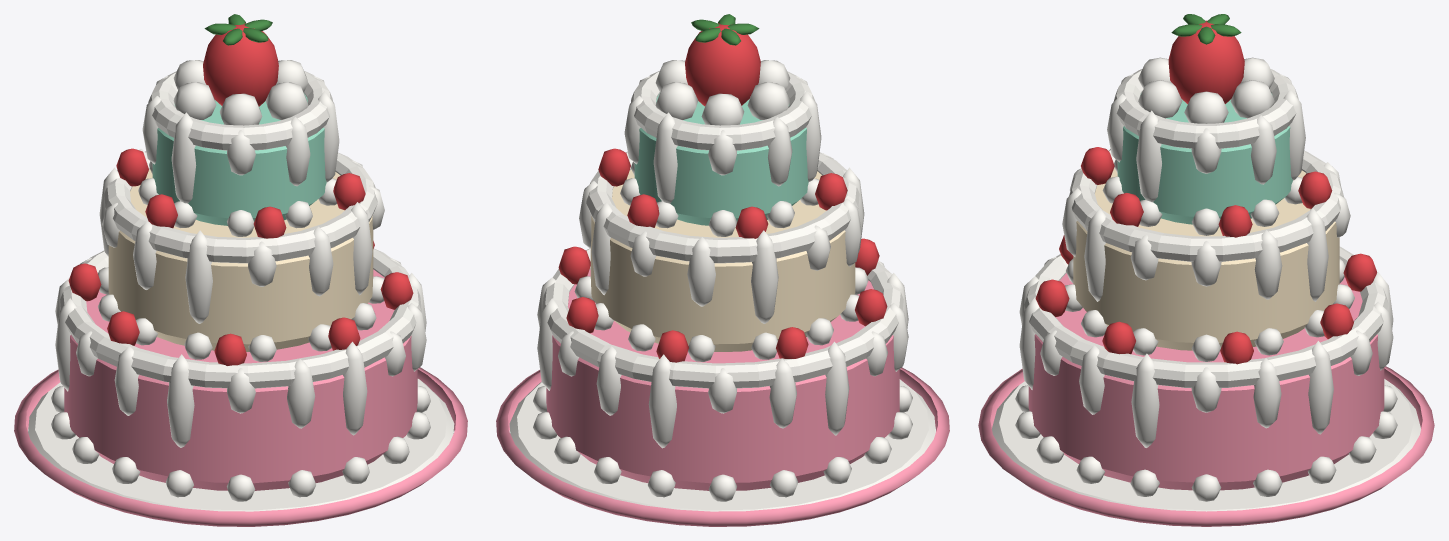
File: cake_tower.fbx
3 views of the same model, side by side, from view 1: azimuth 30°, elevation 25°; view 2: azimuth 150°, elevation 25°; view 3: azimuth 270°, elevation 25° (orthographic).
Parts seen in each view (by area): view 1: cake_tower_White, cake_tower_Pink, cake_tower_Cream, cake_tower_Red, cake_tower_Mint, cake_tower_GreenDark; view 2: cake_tower_White, cake_tower_Pink, cake_tower_Cream, cake_tower_Red, cake_tower_Mint, cake_tower_GreenDark; view 3: cake_tower_White, cake_tower_Pink, cake_tower_Cream, cake_tower_Red, cake_tower_Mint, cake_tower_GreenDark.
Part boxes in pixels (bbox=[...]): cake_tower_White: bbox=[28, 60, 454, 511]; cake_tower_Pink: bbox=[14, 269, 467, 526]; cake_tower_Cream: bbox=[108, 169, 373, 351]; cake_tower_Red: bbox=[68, 23, 413, 365]; cake_tower_Mint: bbox=[152, 93, 326, 225]; cake_tower_GreenDark: bbox=[204, 14, 272, 45]; cake_tower_White: bbox=[509, 60, 935, 511]; cake_tower_Pink: bbox=[496, 269, 949, 526]; cake_tower_Cream: bbox=[590, 169, 855, 351]; cake_tower_Red: bbox=[558, 23, 887, 362]; cake_tower_Mint: bbox=[634, 93, 808, 225]; cake_tower_GreenDark: bbox=[691, 14, 759, 45]; cake_tower_White: bbox=[992, 57, 1420, 511]; cake_tower_Pink: bbox=[978, 273, 1434, 526]; cake_tower_Cream: bbox=[1073, 168, 1339, 350]; cake_tower_Red: bbox=[1035, 20, 1376, 364]; cake_tower_Mint: bbox=[1117, 93, 1292, 224]; cake_tower_GreenDark: bbox=[1171, 14, 1241, 44].
Bounding box in the file's own units: 30.8 × 30.95 × 30.8.
